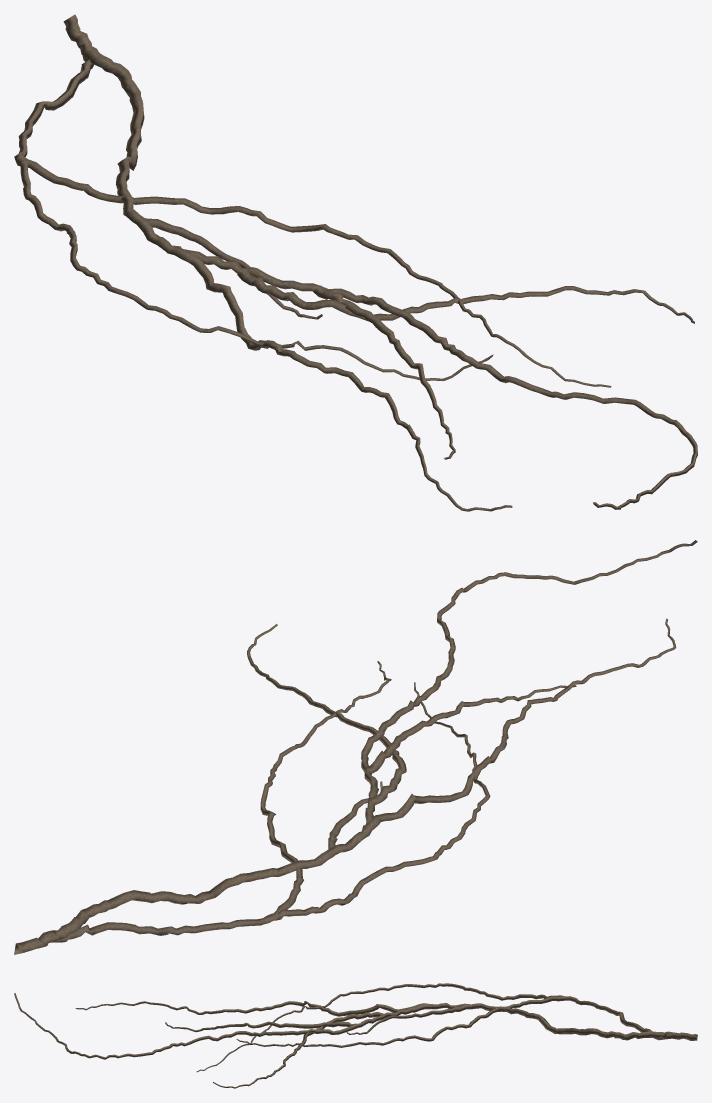
The model's file is SM_roots_4.fbx.
3 renders of one model, top to bottom at view 1: azimuth 30°, elevation 25°; view 2: azimuth 150°, elevation 25°; view 3: azimuth 270°, elevation 25°, orthographic. The views are drawn at different scales.
Parts seen in each view (by area): view 1: SM_roots_4_LOD0; view 2: SM_roots_4_LOD0; view 3: SM_roots_4_LOD0.
Boxes of the visible parts, <box> form: SM_roots_4_LOD0: <box>14,14,697,511</box>; SM_roots_4_LOD0: <box>14,540,697,954</box>; SM_roots_4_LOD0: <box>14,983,697,1088</box>.
Bounding box in the file's own units: 238 × 656 × 35.21.
